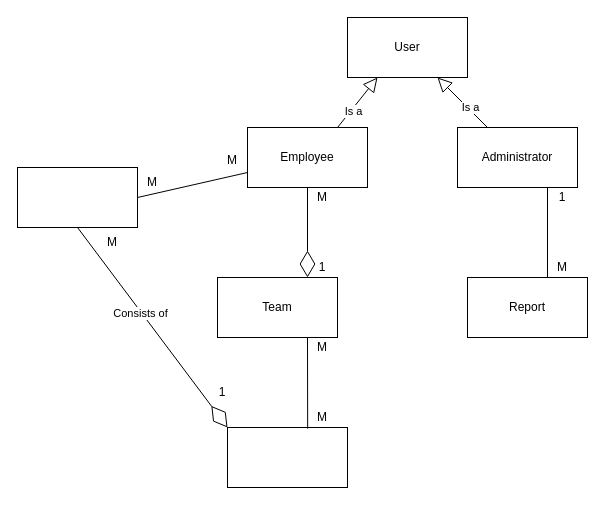
Image size: 605x505. Some labels were removed from this diagram. Here are the shapes that lost their labels. From the top down, the centre of each, then its label:
[77,197]: Task
[287,457]: Project
